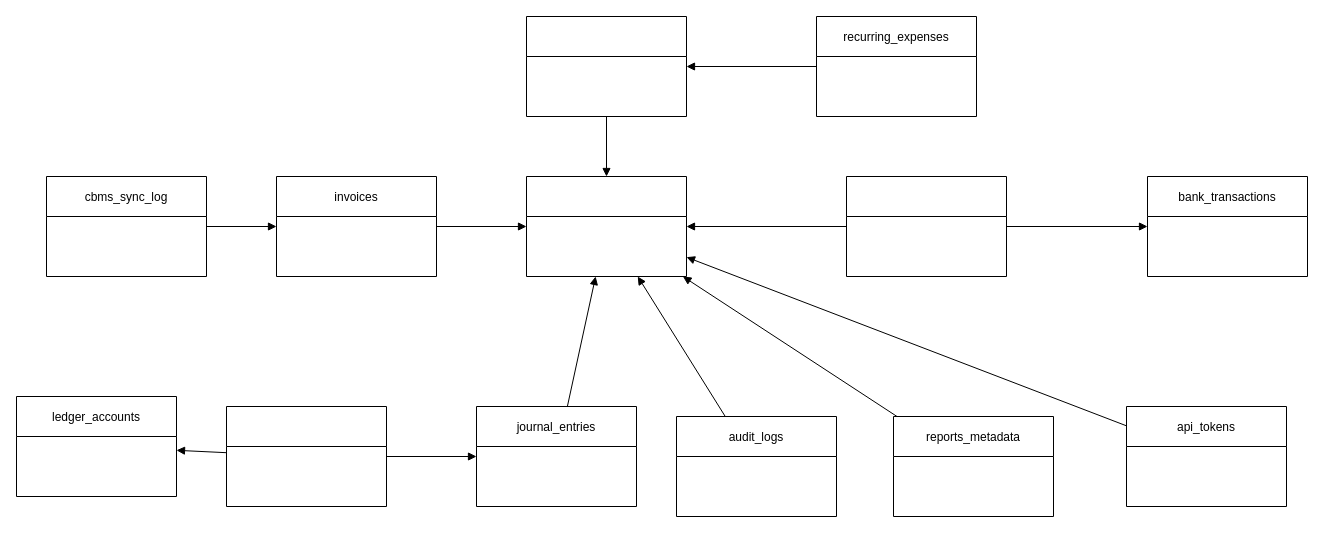
Image size: 1324x533. Some labels were removed from this diagram. The shapes that lost their labels are listed below. From the top down, each one's box as (x1, y1, x2, y2) in pixels, then its label:
(526, 16, 686, 116): expenses
(526, 176, 686, 276): users
(846, 176, 1006, 276): income
(226, 406, 386, 506): journal_lines
